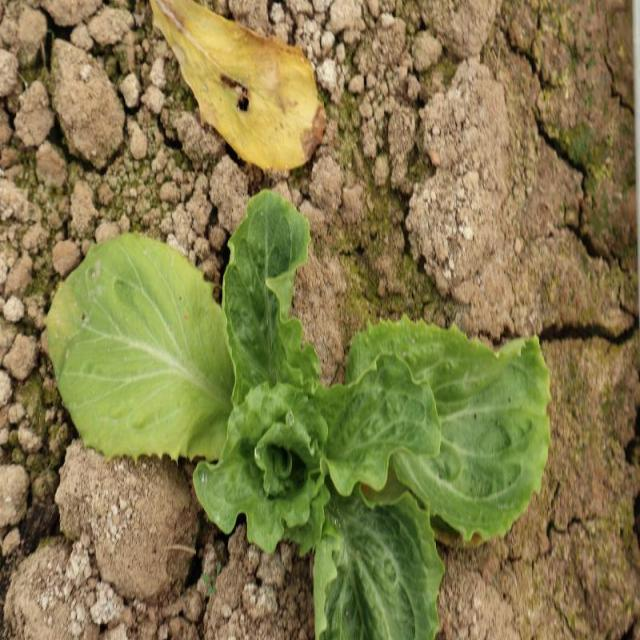crop: (43, 186, 550, 640)
